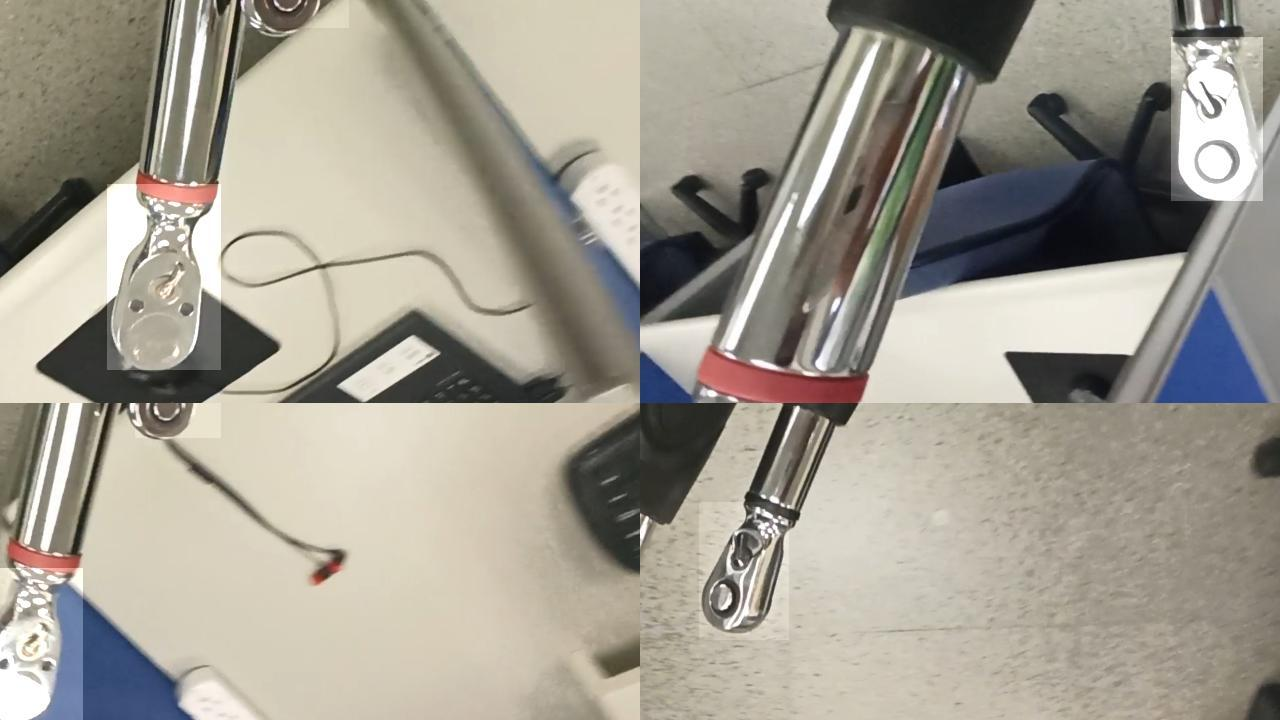Tool: (107, 184, 221, 370), (1171, 37, 1263, 201), (0, 568, 83, 720), (699, 502, 789, 640), (135, 403, 221, 438)
